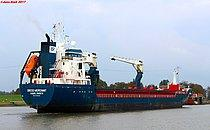Ship: (15, 15, 202, 115)
